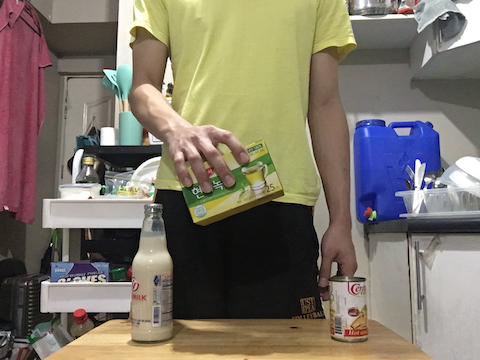bottle: (127, 202, 179, 344)
box: (182, 134, 290, 226)
can: (325, 270, 377, 346)
grab: (164, 122, 257, 196)
